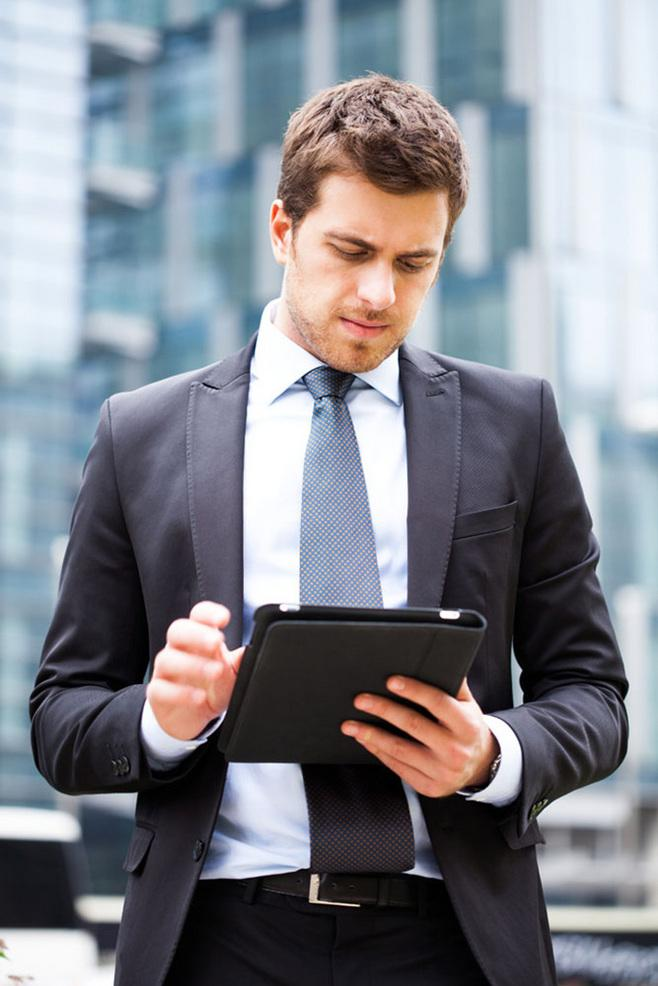pad: (136, 591, 536, 833)
